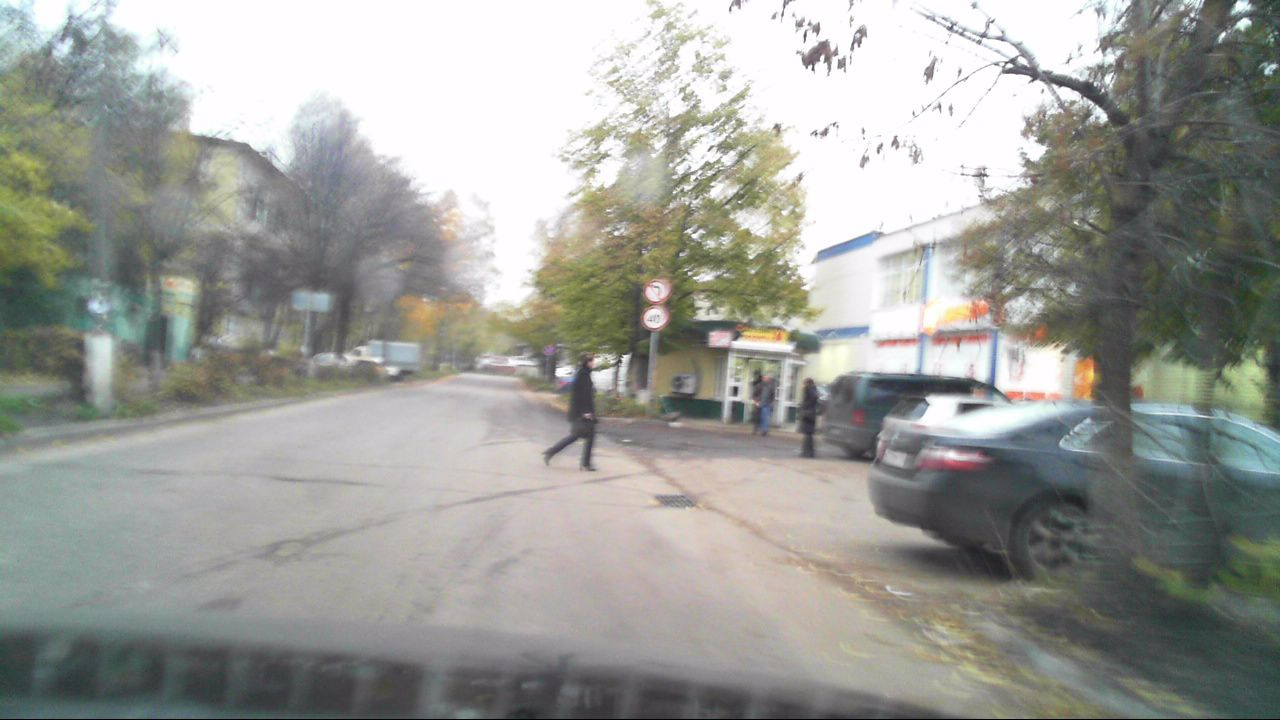speed_warning_40: (641, 307, 664, 330)
